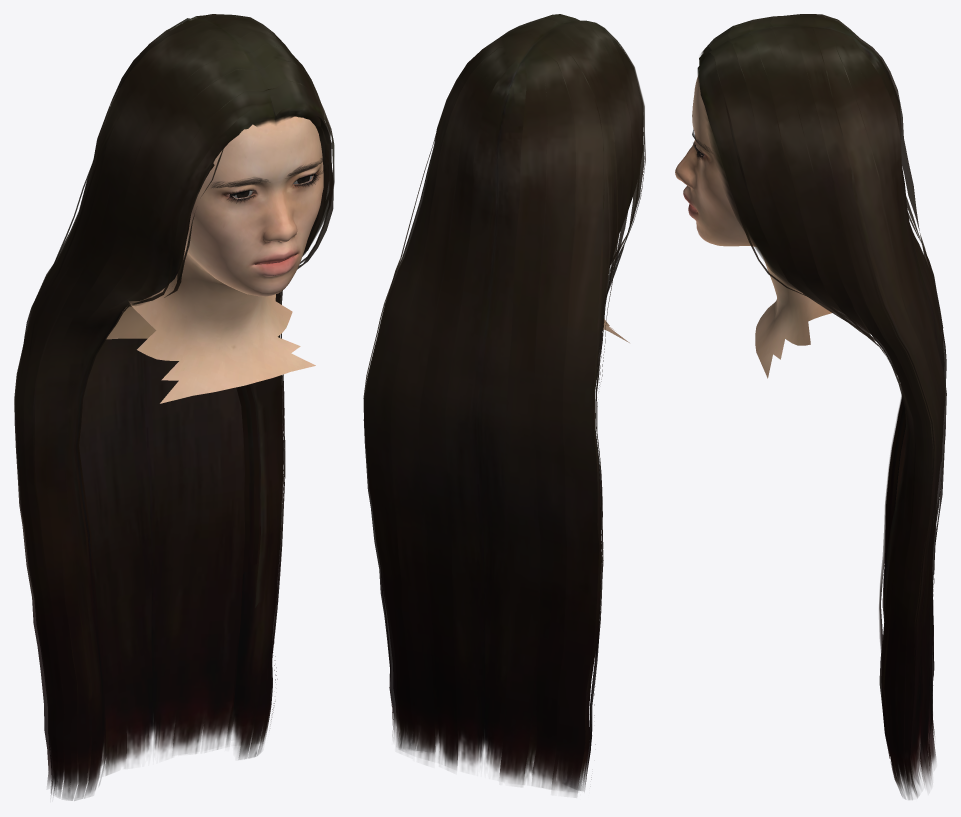
Rendered from patient07.glb.
3 views of the same model, side by side, from view 1: azimuth 30°, elevation 25°; view 2: azimuth 150°, elevation 25°; view 3: azimuth 270°, elevation 25° (orthographic). The views are drawn at different scales.
Visible parts, largest first — view 1: han_mimo.long01, han_mimo.body; view 2: han_mimo.long01; view 3: han_mimo.long01, han_mimo.body.
Boxes of the visible parts, x1,y1,x2,y2 form: han_mimo.long01: [14, 14, 334, 800]; han_mimo.body: [106, 116, 323, 403]; han_mimo.long01: [363, 14, 645, 796]; han_mimo.long01: [697, 14, 946, 799]; han_mimo.body: [675, 75, 831, 378].
Bounding box in the file's own units: 0.2434 × 0.6974 × 0.2327.
Materials: 8 (7 with a texture image).
